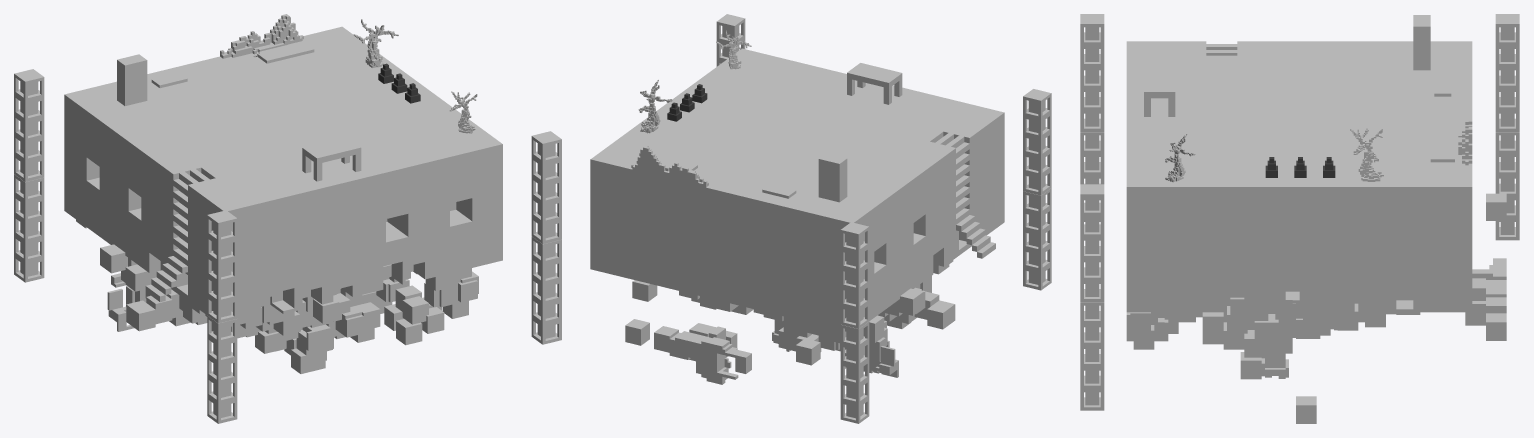
The model's file is map_undead.fbx.
3 views of the same model, side by side, from view 1: azimuth 30°, elevation 25°; view 2: azimuth 150°, elevation 25°; view 3: azimuth 270°, elevation 25° (orthographic). The views are drawn at different scales.
Parts seen in each view (by area): view 1: map_undead, map_undead_object_005, map_undead_object_003, map_undead_object, map_undead_object_001, map_undead_object_002, map_undead_object_004, map_undead_object_3, map_undead_object_3_001; view 2: map_undead, map_undead_object_005, map_undead_object, map_undead_object_004, map_undead_object_001, map_undead_object_003, map_undead_object_3, map_undead_object_3_001; view 3: map_undead, map_undead_object_003, map_undead_object, map_undead_object_005, map_undead_object_002, map_undead_object_004, map_undead_object_001, map_undead_object_3, map_undead_object_3_001.
Boxes of the visible parts, bbox=[...] form: map_undead: bbox=[64, 14, 502, 373]; map_undead_object_005: bbox=[14, 69, 44, 181]; map_undead_object_003: bbox=[531, 131, 561, 243]; map_undead_object: bbox=[207, 210, 237, 323]; map_undead_object_001: bbox=[207, 315, 237, 423]; map_undead_object_002: bbox=[531, 236, 561, 344]; map_undead_object_004: bbox=[14, 174, 44, 282]; map_undead_object_3: bbox=[353, 19, 398, 68]; map_undead_object_3_001: bbox=[449, 91, 477, 133]; map_undead: bbox=[590, 48, 1004, 384]; map_undead_object_005: bbox=[840, 222, 869, 328]; map_undead_object: bbox=[1023, 89, 1051, 195]; map_undead_object_004: bbox=[840, 322, 869, 423]; map_undead_object_001: bbox=[1023, 188, 1051, 290]; map_undead_object_003: bbox=[716, 14, 745, 66]; map_undead_object_3: bbox=[638, 79, 672, 133]; map_undead_object_3_001: bbox=[716, 30, 751, 69]; map_undead: bbox=[1126, 15, 1506, 423]; map_undead_object_003: bbox=[1080, 184, 1104, 302]; map_undead_object: bbox=[1080, 14, 1104, 131]; map_undead_object_005: bbox=[1495, 14, 1519, 131]; map_undead_object_002: bbox=[1080, 302, 1104, 410]; map_undead_object_004: bbox=[1495, 132, 1519, 240]; map_undead_object_001: bbox=[1080, 132, 1104, 221]; map_undead_object_3: bbox=[1350, 128, 1383, 181]; map_undead_object_3_001: bbox=[1165, 134, 1195, 182].
Bounding box in the file's own units: 124 × 96.97 × 127.
